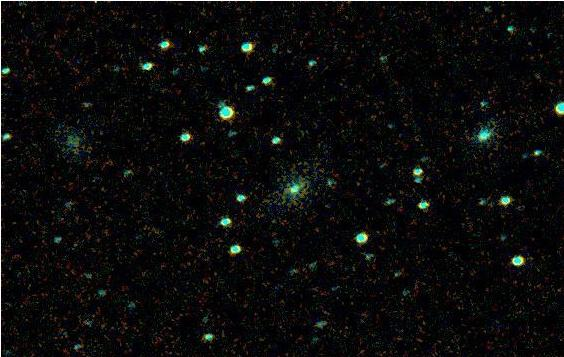star: (522, 137, 552, 167)
